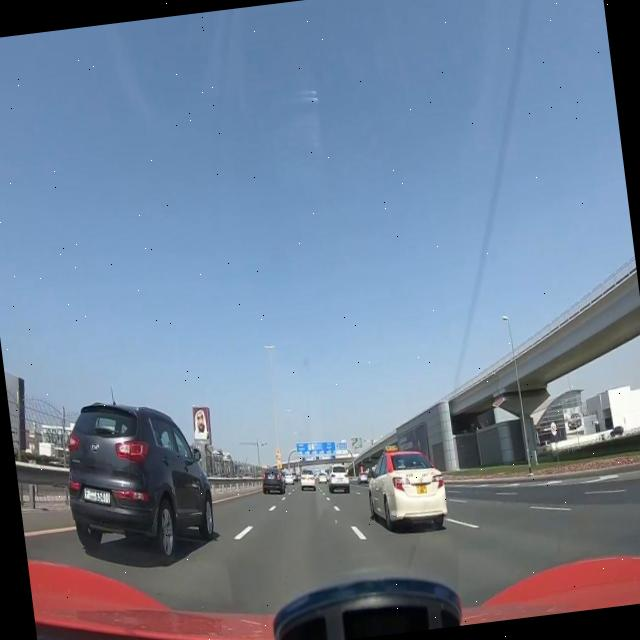License-plate: (81, 480, 112, 507), (416, 481, 430, 494)
